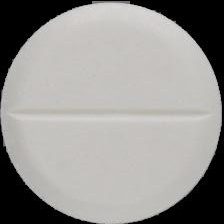60505-0183: (0, 0, 224, 224)
